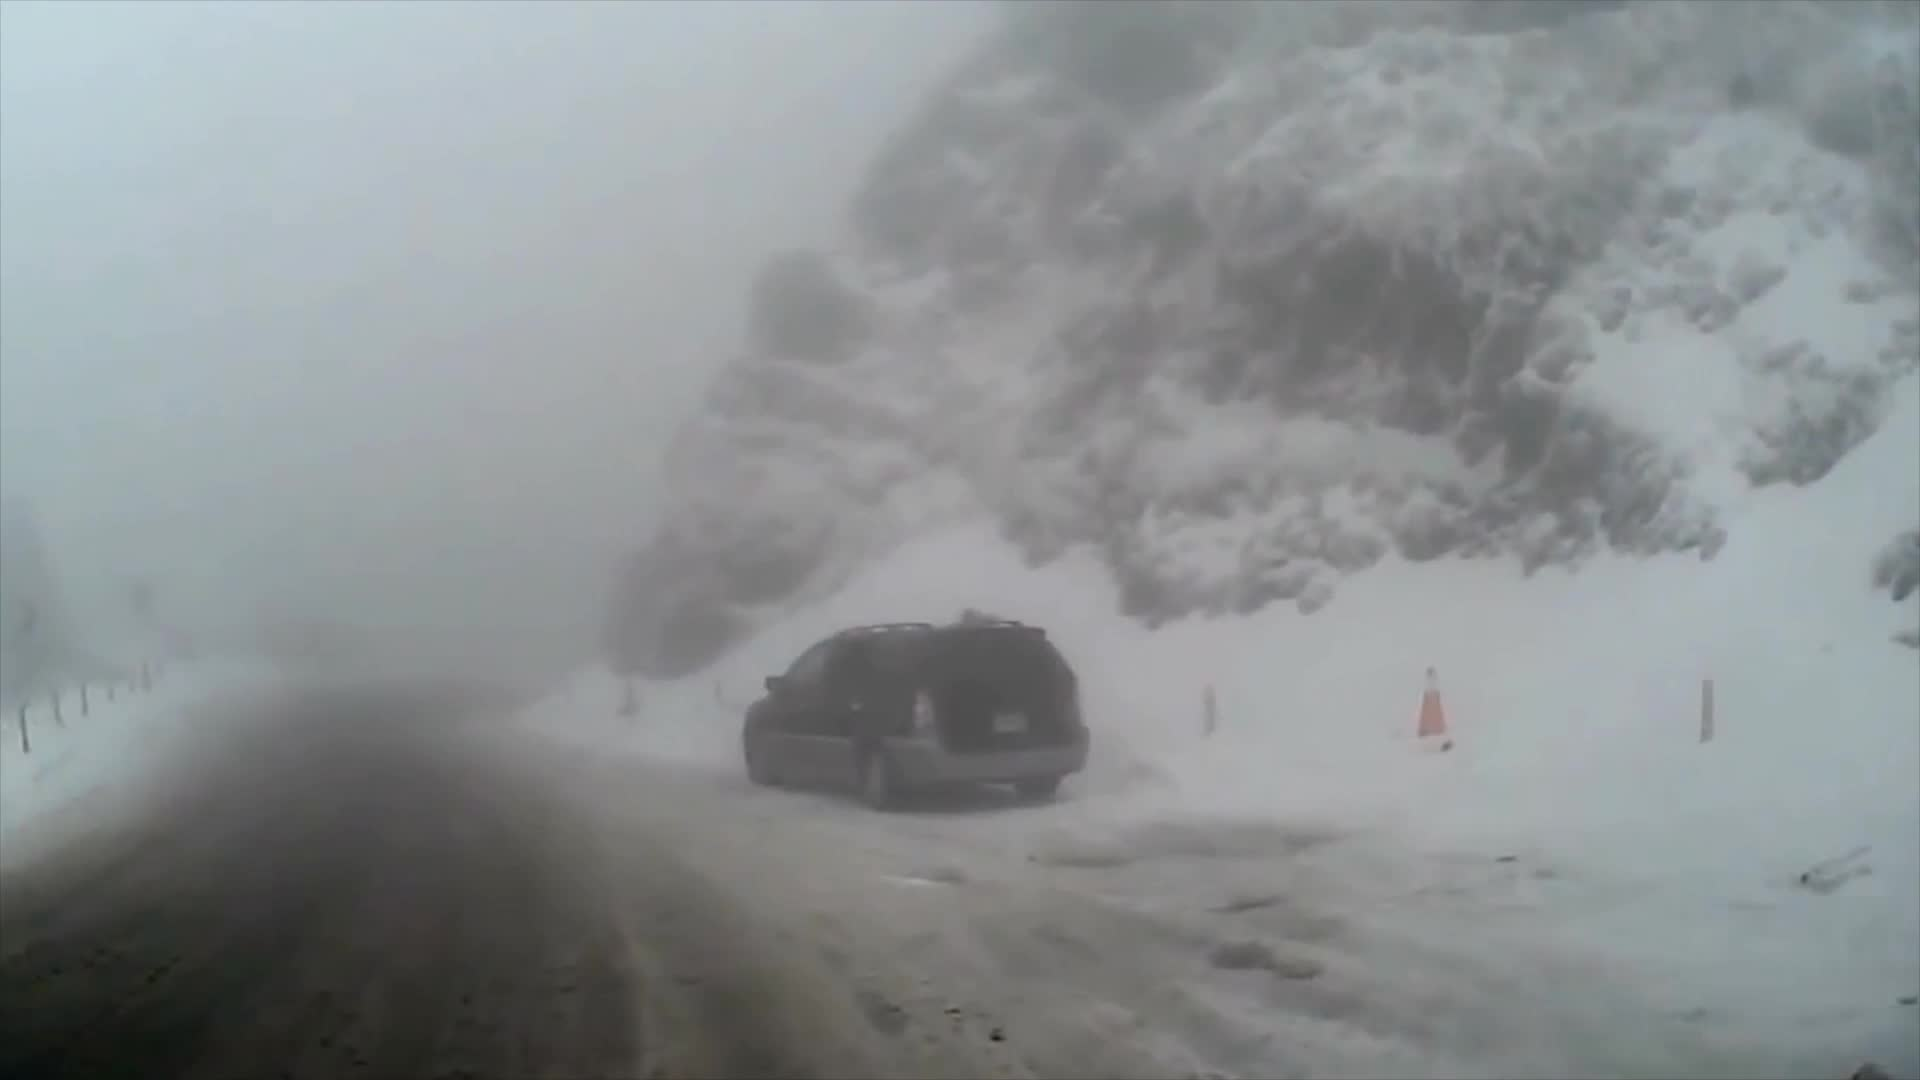vehicle: (738, 625, 1089, 815)
